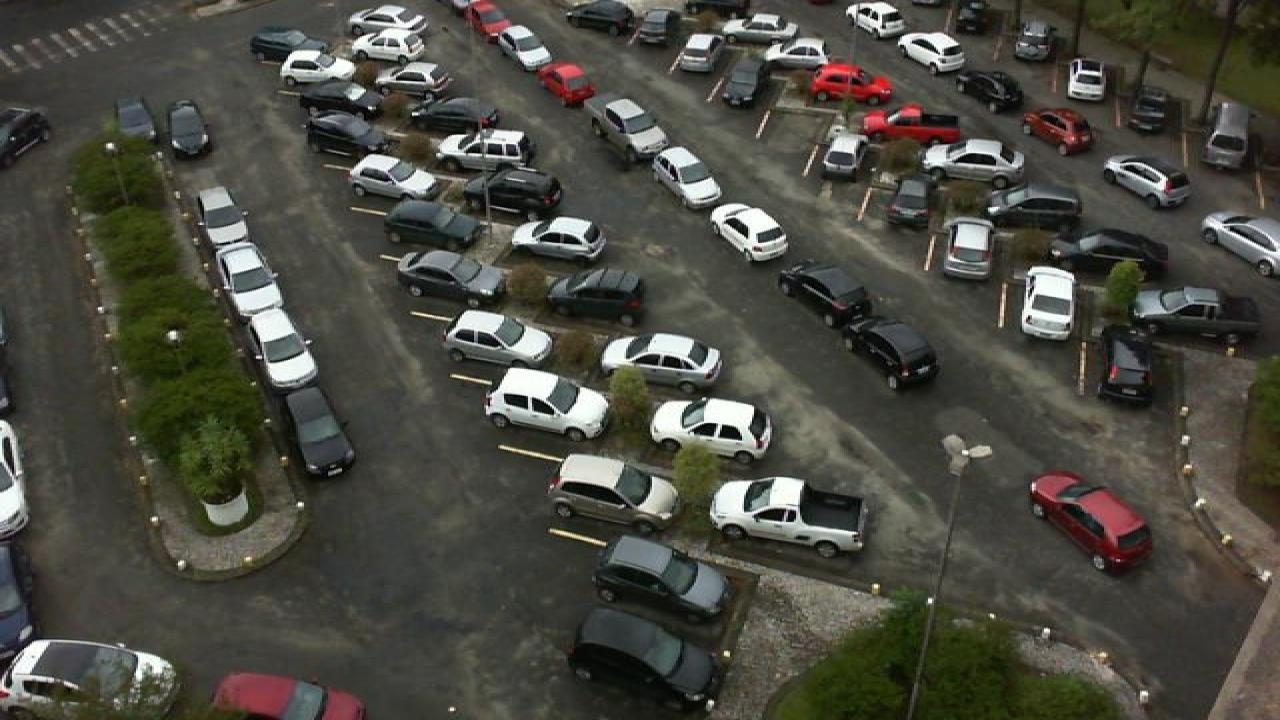Car: (566, 604, 722, 714), (0, 635, 182, 720), (710, 475, 868, 560), (1028, 470, 1156, 574), (588, 533, 732, 623), (548, 452, 684, 541), (484, 366, 612, 443), (648, 395, 776, 466), (598, 331, 726, 395), (210, 671, 370, 720), (1126, 287, 1264, 342), (848, 312, 940, 393), (442, 307, 560, 370), (280, 385, 356, 479), (778, 258, 872, 330), (394, 248, 510, 302), (1052, 227, 1170, 280), (244, 308, 320, 390), (380, 198, 488, 254), (546, 267, 650, 325), (1200, 209, 1280, 277), (920, 136, 1028, 185), (1100, 153, 1194, 209), (348, 152, 442, 206), (982, 183, 1084, 232), (710, 202, 790, 264), (650, 143, 724, 209), (508, 215, 608, 263), (586, 97, 668, 155), (478, 166, 566, 220), (302, 110, 396, 160), (432, 127, 536, 172), (1020, 264, 1078, 344), (194, 185, 258, 253), (860, 104, 966, 144), (226, 276, 294, 338), (1096, 336, 1156, 405), (1016, 107, 1096, 156), (806, 60, 896, 103), (1202, 100, 1256, 170), (410, 96, 500, 136), (942, 216, 996, 282), (210, 242, 272, 298), (276, 48, 360, 89), (880, 173, 936, 234), (954, 66, 1024, 114), (294, 80, 380, 118), (896, 29, 968, 73), (376, 61, 456, 100), (248, 25, 330, 63), (350, 29, 432, 65), (534, 61, 596, 108), (166, 98, 212, 160), (346, 4, 428, 38), (496, 25, 556, 70), (720, 55, 770, 109), (110, 94, 158, 150), (564, 0, 640, 35), (818, 133, 872, 181), (718, 12, 802, 42), (1130, 83, 1180, 133), (762, 37, 830, 73), (670, 31, 722, 76), (846, 1, 908, 38), (1062, 56, 1110, 102), (466, 0, 516, 39), (1012, 18, 1054, 62), (634, 6, 678, 47), (952, 0, 990, 35)
